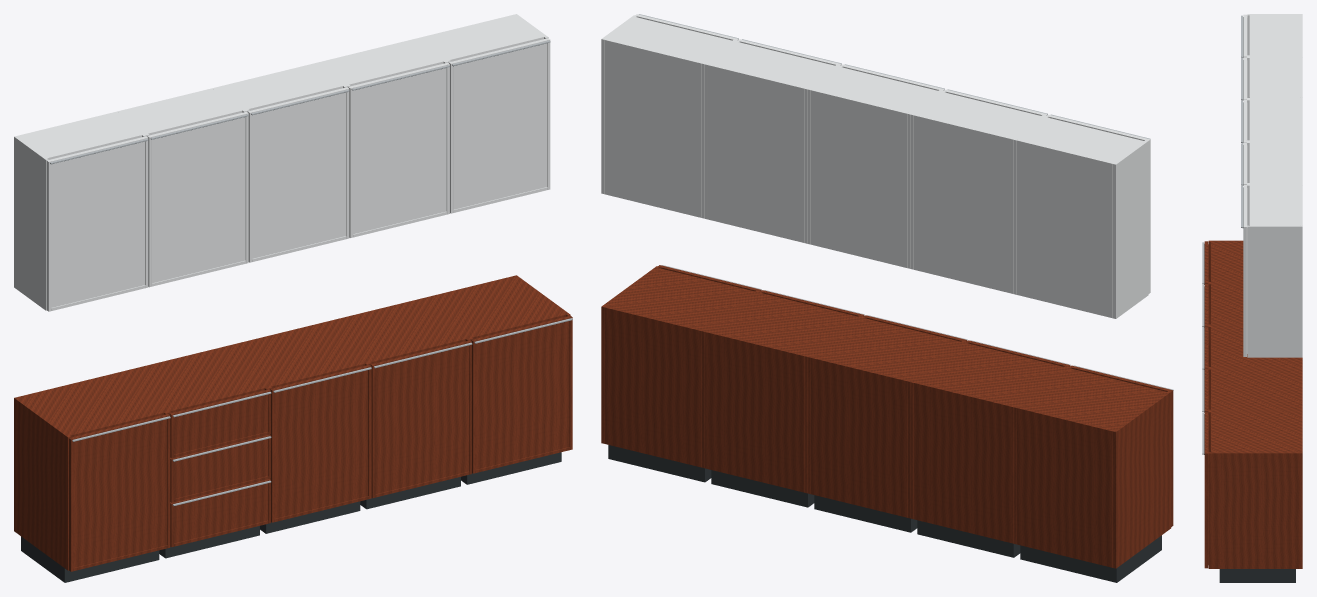
File: two-tone-modular-kitchen-cabinet.glb
3 views of the same model, side by side, from view 1: azimuth 30°, elevation 25°; view 2: azimuth 150°, elevation 25°; view 3: azimuth 270°, elevation 25° (orthographic). The views are drawn at different scales.
Visible parts, largest first — view 1: Back wall 2 / Overhead door 0 inset panel, Back wall 4 / Overhead door 0 inset panel, Back wall 0 / Overhead door 0 inset panel, Back wall 3 / Overhead door 0 inset panel, Back wall 1 / Overhead door 0 inset panel, Back base 0 / Cabinet door 0 inset panel, Back base 2 / Cabinet door 0 inset panel, Back base 4 / Cabinet door 0 inset panel, Back base 3 / Cabinet door 0 inset panel, Back base 0 / Cabinet gables, Back wall 0 / Overhead gables, Back base 0 / Cabinet shelves (+29 smaller); view 2: Back wall 2 / Overhead back, Back wall 3 / Overhead back, Back wall 4 / Overhead back, Back wall 0 / Overhead back, Back wall 1 / Overhead back, Back base 3 / Cabinet back, Back base 2 / Cabinet back, Back base 4 / Cabinet back, Back base 0 / Cabinet back, Back base 1 / Cabinet back, Back base 0 / Cabinet gables, Back wall 0 / Overhead gables (+25 smaller); view 3: Back base 4 / Cabinet gables, Back wall 4 / Overhead gables, Back base 3 / Cabinet shelves, Back base 4 / Cabinet shelves, Back wall 0 / Overhead shelves, Back wall 2 / Overhead shelves, Back wall 4 / Overhead shelves, Back wall 1 / Overhead shelves, Back wall 3 / Overhead shelves, Back base 2 / Cabinet shelves, Back base 1 / Cabinet shelves, Back base 0 / Cabinet shelves (+20 smaller).
Part boxes in pixels (x1,y1,x2,y2): Back wall 2 / Overhead door 0 inset panel: (252,92,346,258); Back wall 4 / Overhead door 0 inset panel: (453,43,547,209); Back wall 0 / Overhead door 0 inset panel: (51,141,144,307); Back wall 3 / Overhead door 0 inset panel: (353,68,446,234); Back wall 1 / Overhead door 0 inset panel: (152,117,245,283); Back base 0 / Cabinet door 0 inset panel: (73,419,167,567); Back base 2 / Cabinet door 0 inset panel: (274,370,368,518); Back base 4 / Cabinet door 0 inset panel: (475,321,569,469); Back base 3 / Cabinet door 0 inset panel: (375,345,468,494); Back base 0 / Cabinet gables: (14,373,168,570); Back wall 0 / Overhead gables: (14,112,146,310); Back base 0 / Cabinet shelves: (18,375,164,437); Back wall 2 / Overhead back: (810,89,907,267); Back wall 3 / Overhead back: (707,64,804,242); Back wall 4 / Overhead back: (604,39,701,217); Back wall 0 / Overhead back: (1016,139,1113,318); Back wall 1 / Overhead back: (913,114,1010,292); Back base 3 / Cabinet back: (707,331,804,492); Back base 2 / Cabinet back: (810,357,907,517); Back base 4 / Cabinet back: (604,306,701,467); Back base 0 / Cabinet back: (1016,407,1113,567); Back base 1 / Cabinet back: (913,382,1010,542); Back base 0 / Cabinet gables: (1013,366,1171,568); Back wall 0 / Overhead gables: (1013,115,1148,318); Back base 4 / Cabinet gables: (1208,411,1302,568); Back wall 4 / Overhead gables: (1247,184,1302,357); Back base 3 / Cabinet shelves: (1211,369,1300,409); Back base 4 / Cabinet shelves: (1211,412,1300,452); Back wall 0 / Overhead shelves: (1249,15,1300,55); Back wall 2 / Overhead shelves: (1249,100,1300,140); Back wall 4 / Overhead shelves: (1249,185,1300,225); Back wall 1 / Overhead shelves: (1249,58,1300,97); Back wall 3 / Overhead shelves: (1249,143,1300,182); Back base 2 / Cabinet shelves: (1211,327,1300,366); Back base 1 / Cabinet shelves: (1211,284,1243,324); Back base 0 / Cabinet shelves: (1211,242,1243,281).
Bounding box in the file's own units: 3 × 2.35 × 0.597.
4 materials, 1 textured.
